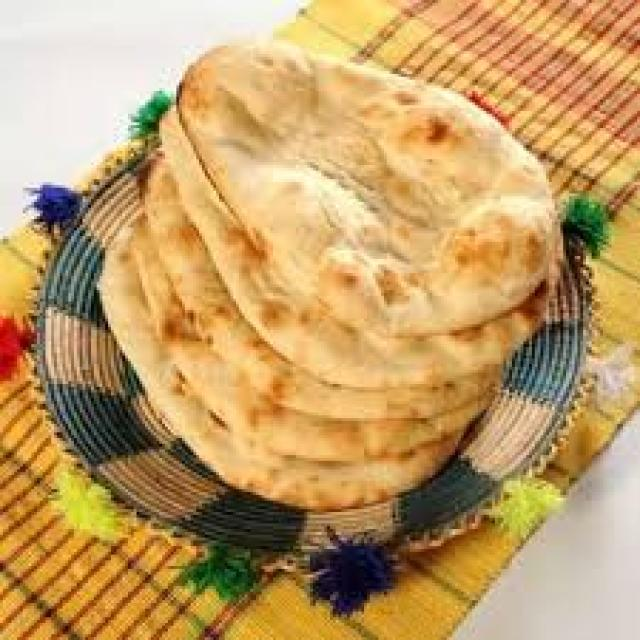ROTI: (164, 106, 552, 400), (99, 216, 493, 505), (173, 43, 555, 332), (146, 156, 505, 422)
